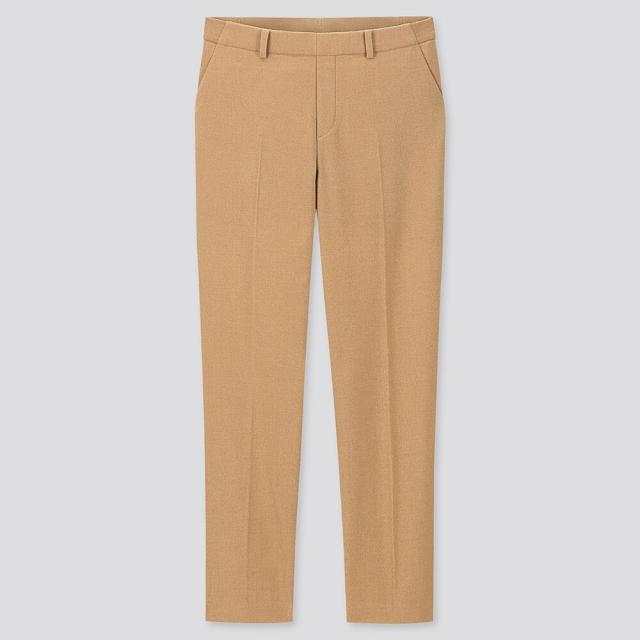long-pants: (195, 16, 447, 628)
